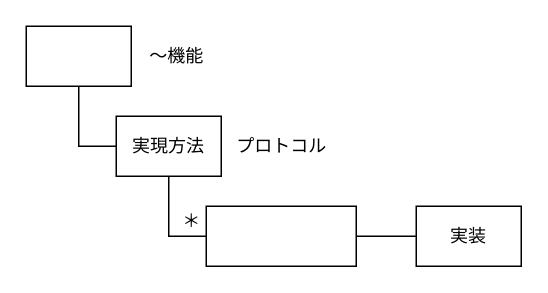
Image size: 548x293. Some labels were removed from this diagram. Each missing label, with the centre of its shape:
インターフェース: (280,235)
目的: (78,55)
